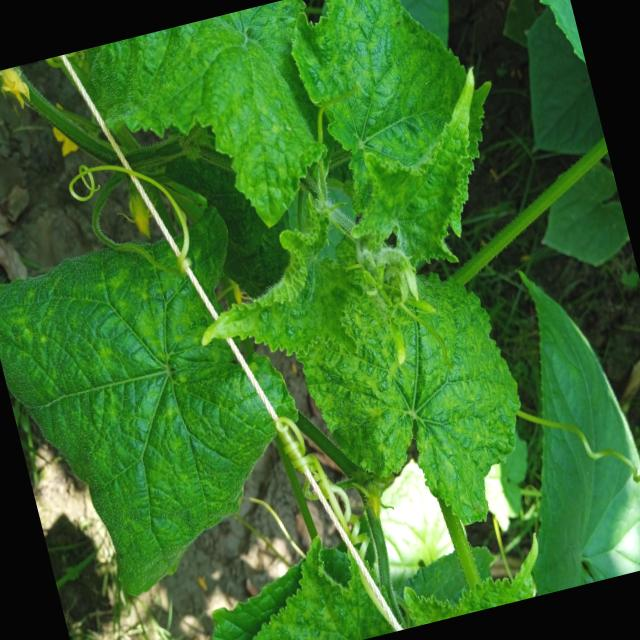cucumber_healthy: (0, 192, 335, 618), (48, 0, 359, 273), (280, 0, 540, 298), (461, 244, 640, 595), (162, 512, 404, 640), (392, 531, 558, 628), (501, 0, 587, 84)
